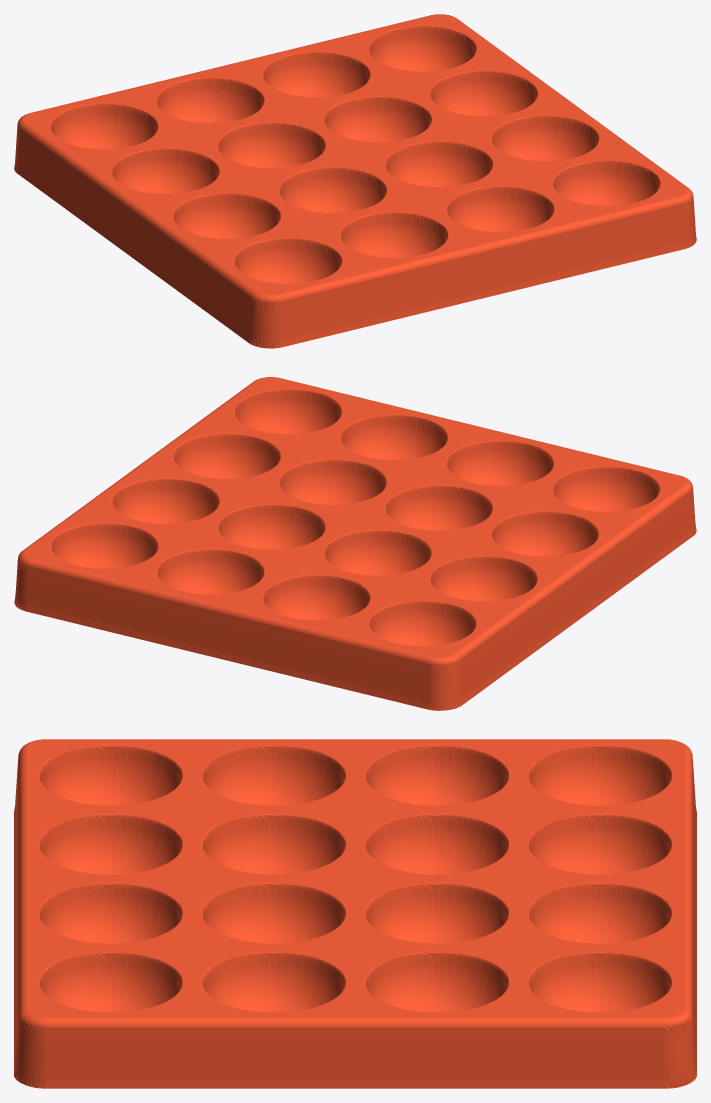
The model's file is mold.glb.
3 renders of one model, top to bottom at view 1: azimuth 30°, elevation 25°; view 2: azimuth 150°, elevation 25°; view 3: azimuth 270°, elevation 25°, orthographic. The views are drawn at different scales.
Visible parts, largest first — view 1: geometry_0; view 2: geometry_0; view 3: geometry_0.
Boxes of the visible parts, x1,y1,x2,y2 form: geometry_0: (14, 14, 696, 348); geometry_0: (14, 377, 696, 710); geometry_0: (14, 739, 696, 1088).
Bounding box in the file's own units: 0.1856 × 0.0197 × 0.1856.
